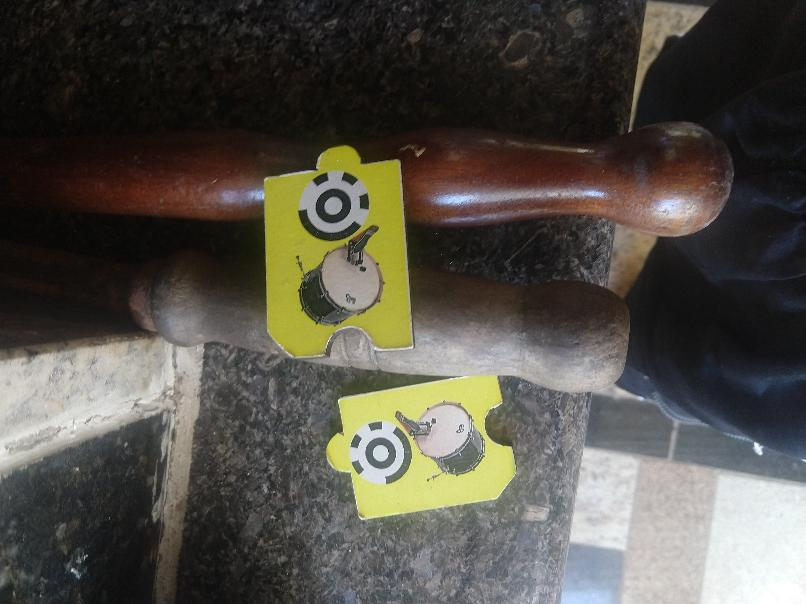bumbo: (261, 142, 418, 359), (323, 364, 517, 522)
